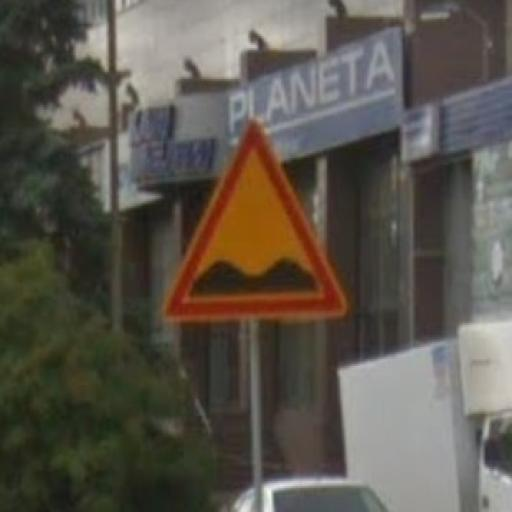traffic_sign: (162, 120, 350, 328)
